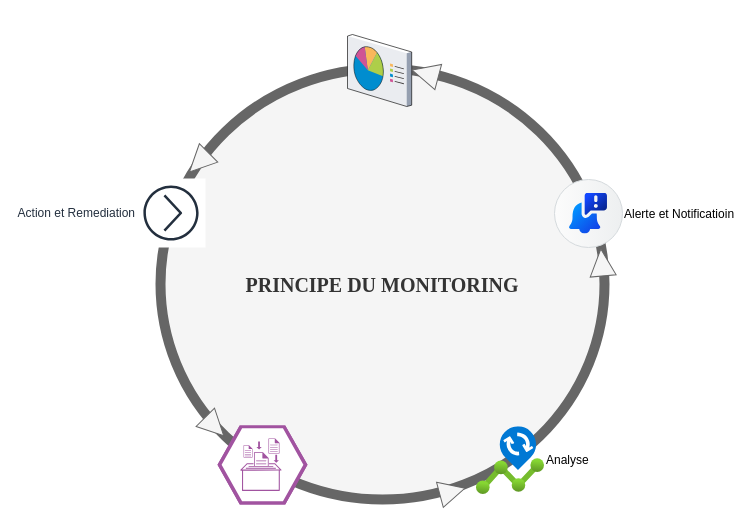
Some shapes in this 752 by 525 pixel diagram are drawn without their labels. Here are the shapes that lost their labels. From the top down, the centre of each, then its label:
point (379, 70): Visualilsation et Reporting
point (262, 464): Collecte des donneés
